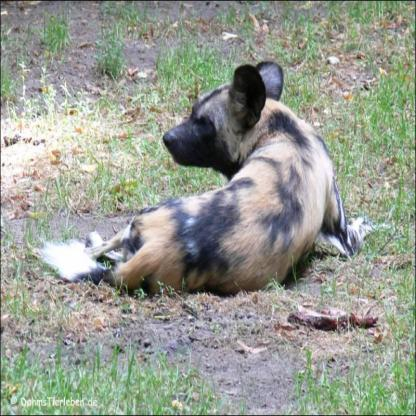African_hunting_dog: (30, 59, 376, 302)
